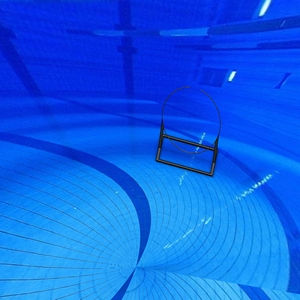circle: (155, 84, 226, 180)
